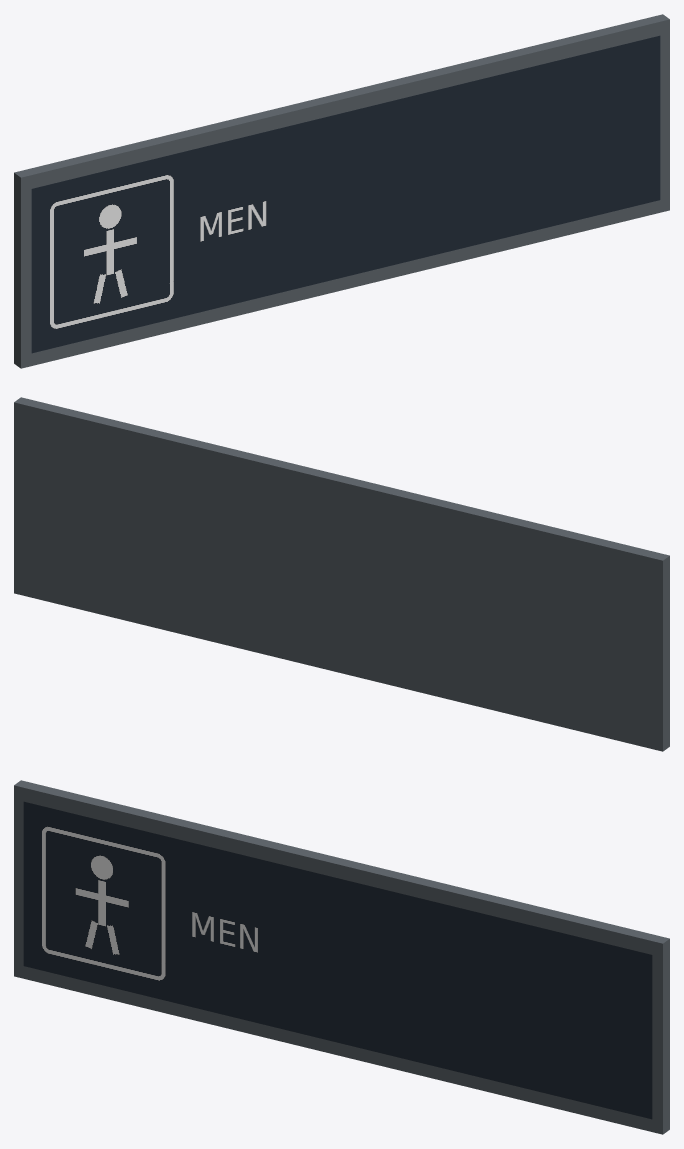
File: 13_wall_toilet_male.glb
3 renders of one model, top to bottom at view 1: azimuth 30°, elevation 25°; view 2: azimuth 150°, elevation 25°; view 3: azimuth 330°, elevation 25°, orthographic.
Parts seen in each view (by area): view 1: Sign_Face, Housing; view 2: Housing; view 3: Sign_Face, Housing.
Part boxes in pixels (x1=…): Sign_Face: x1=31, y1=35, x2=660, y2=353; Housing: x1=14, y1=14, x2=669, y2=368; Housing: x1=14, y1=397, x2=669, y2=751; Sign_Face: x1=23, y1=801, x2=652, y2=1119; Housing: x1=14, y1=780, x2=669, y2=1134.
Bounding box in the file's own units: 0.64 × 0.18 × 0.013.
Materials: 2 (1 with a texture image).
